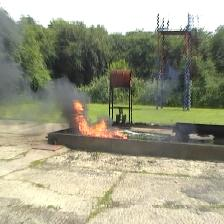fire: (74, 99, 128, 139)
